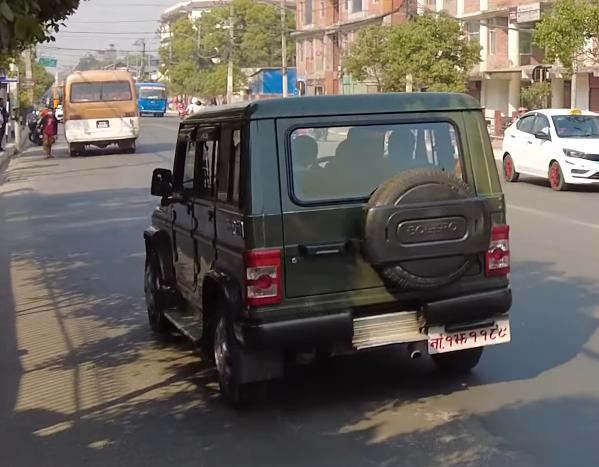SUV: (136, 83, 516, 412)
bus: (60, 66, 138, 156), (134, 81, 171, 119)
